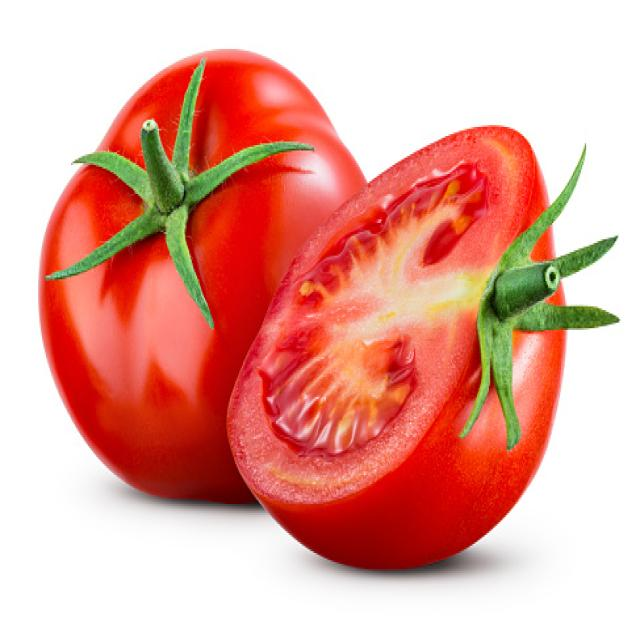Tomato: (230, 153, 588, 557)
